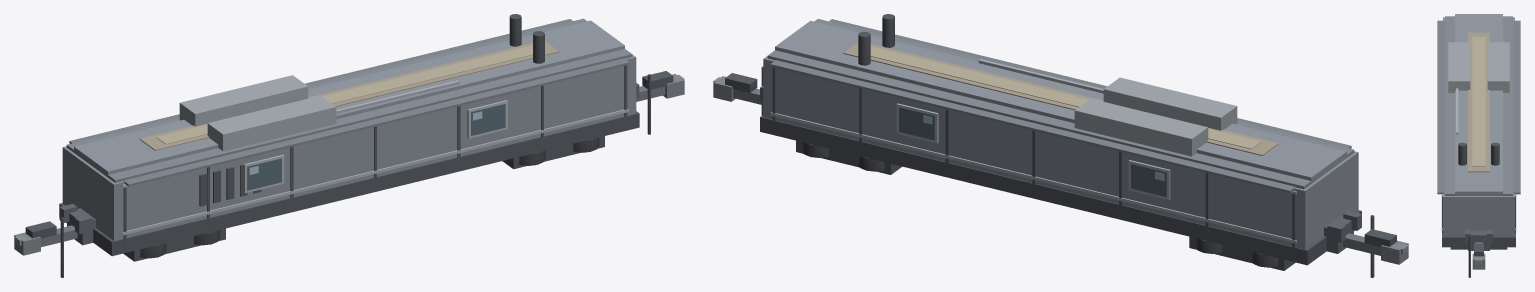
File: power.glb
3 renders of one model, left to right at view 1: azimuth 30°, elevation 25°; view 2: azimuth 150°, elevation 25°; view 3: azimuth 270°, elevation 25°, orthographic. The views are drawn at different scales.
Visible parts, largest first — view 1: power; view 2: power; view 3: power.
Part boxes in pixels (x1,y1,x2,y2): power: (14, 14, 684, 277); power: (713, 14, 1408, 277); power: (1437, 14, 1520, 277).
Bounding box in the file's own units: 24.68 × 4.7 × 3.82.
